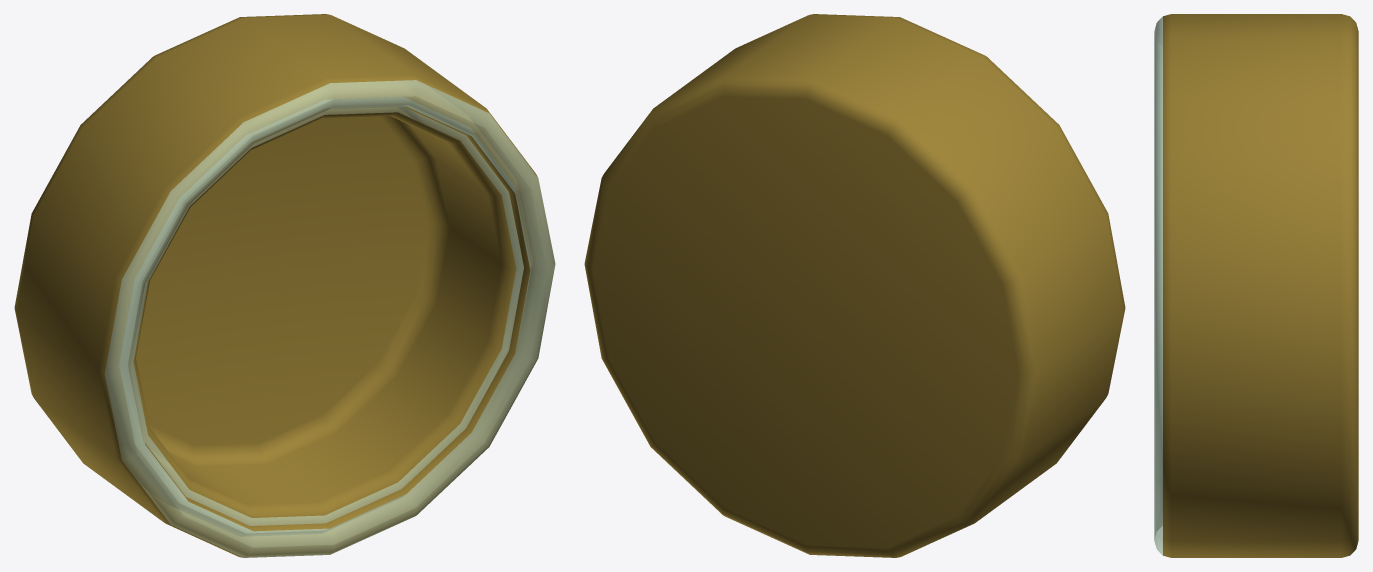
File: BB_PROP_Gauge.obj
3 views of the same model, side by side, from view 1: azimuth 30°, elevation 25°; view 2: azimuth 150°, elevation 25°; view 3: azimuth 270°, elevation 25° (orthographic). The views are drawn at different scales.
Parts seen in each view (by area): view 1: BB_PROP_Gauge; view 2: BB_PROP_Gauge; view 3: BB_PROP_Gauge.
Boxes of the visible parts, x1,y1,x2,y2 form: BB_PROP_Gauge: (14, 14, 555, 557); BB_PROP_Gauge: (584, 14, 1125, 557); BB_PROP_Gauge: (1154, 14, 1358, 557).
Size of the model in its own units: 0.32 by 0.32 by 0.12.
